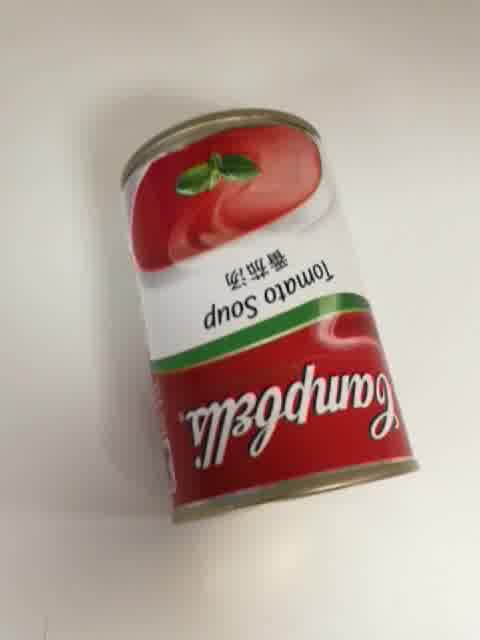tomatosoup: (120, 103, 425, 530)
